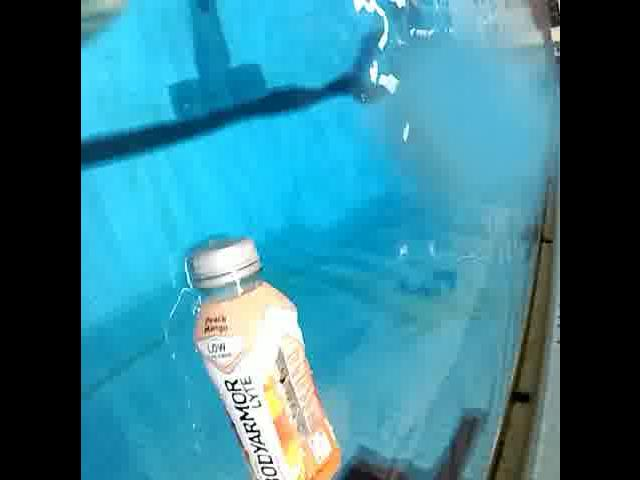Bottle: (170, 227, 348, 480)
